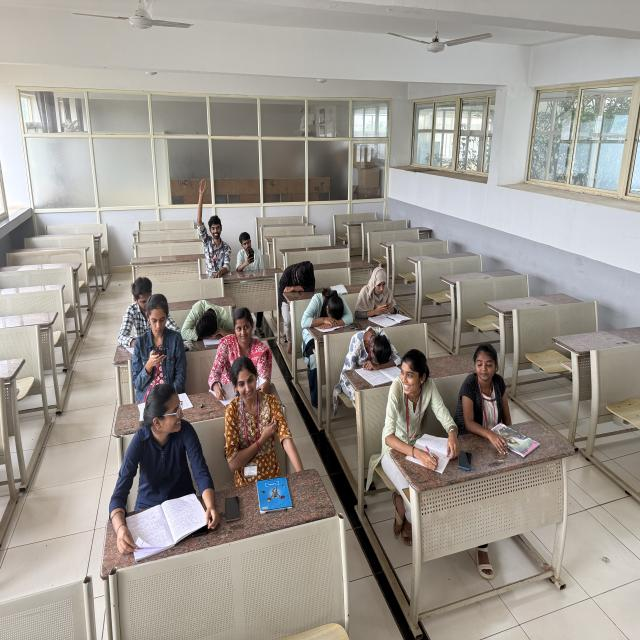Hand Rising: (188, 181, 234, 274)
Reading: (108, 385, 216, 553)
Sleeping: (340, 324, 402, 374), (182, 292, 237, 346), (304, 287, 357, 331), (274, 257, 319, 298)
Using Phone: (123, 292, 188, 394), (355, 262, 405, 316), (233, 227, 265, 274)
Writing: (384, 343, 464, 468)
